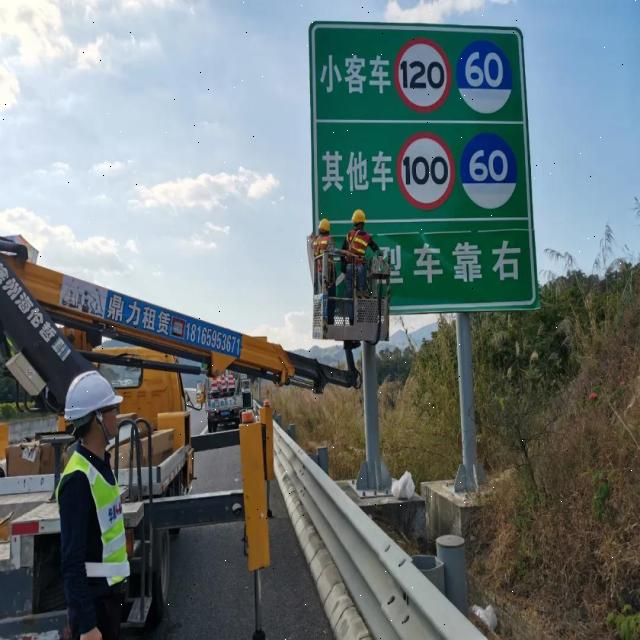speed limit 100: (395, 132, 454, 211)
speed limit 120: (392, 37, 451, 112)
speed limit 60: (459, 129, 518, 210), (455, 40, 513, 113)
